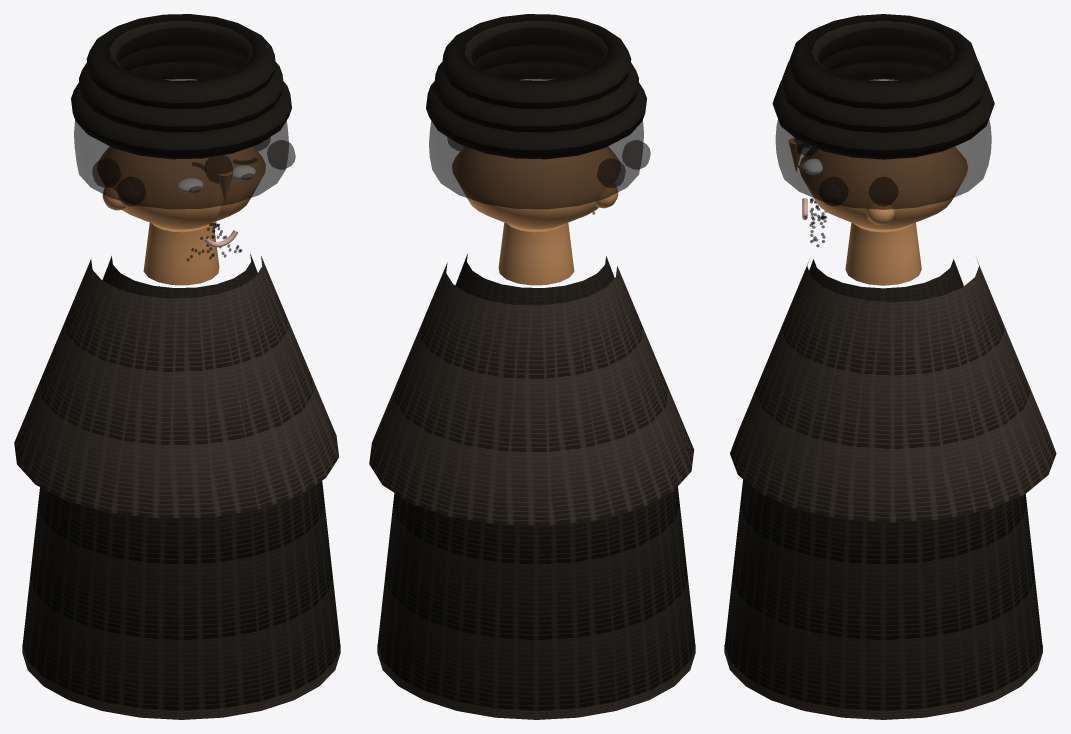
File: city_gossip.glb
3 views of the same model, side by side, from view 1: azimuth 30°, elevation 25°; view 2: azimuth 150°, elevation 25°; view 3: azimuth 270°, elevation 25° (orthographic).
Visible parts, largest first — view 1: Character_nervous_citizen_city_gossip, head; view 2: Character_nervous_citizen_city_gossip, head; view 3: Character_nervous_citizen_city_gossip, head.
Boxes of the visible parts, box(x1,y1,x2,y2) form: Character_nervous_citizen_city_gossip: box(14, 14, 340, 719); head: box(97, 146, 265, 229); Character_nervous_citizen_city_gossip: box(369, 14, 695, 719); head: box(452, 146, 620, 229); Character_nervous_citizen_city_gossip: box(724, 14, 1056, 719); head: box(799, 146, 967, 229).
Bounding box in the file's own units: 0.8658 × 1.8 × 0.8801.
Materials: 9 (5 with a texture image).
